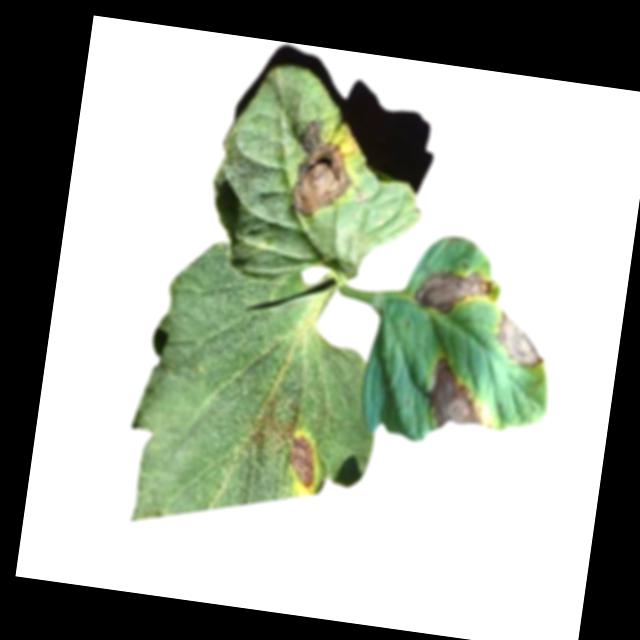Early_blight: (281, 118, 361, 225), (423, 357, 490, 435), (412, 262, 498, 322), (491, 310, 551, 370), (284, 433, 322, 489)
